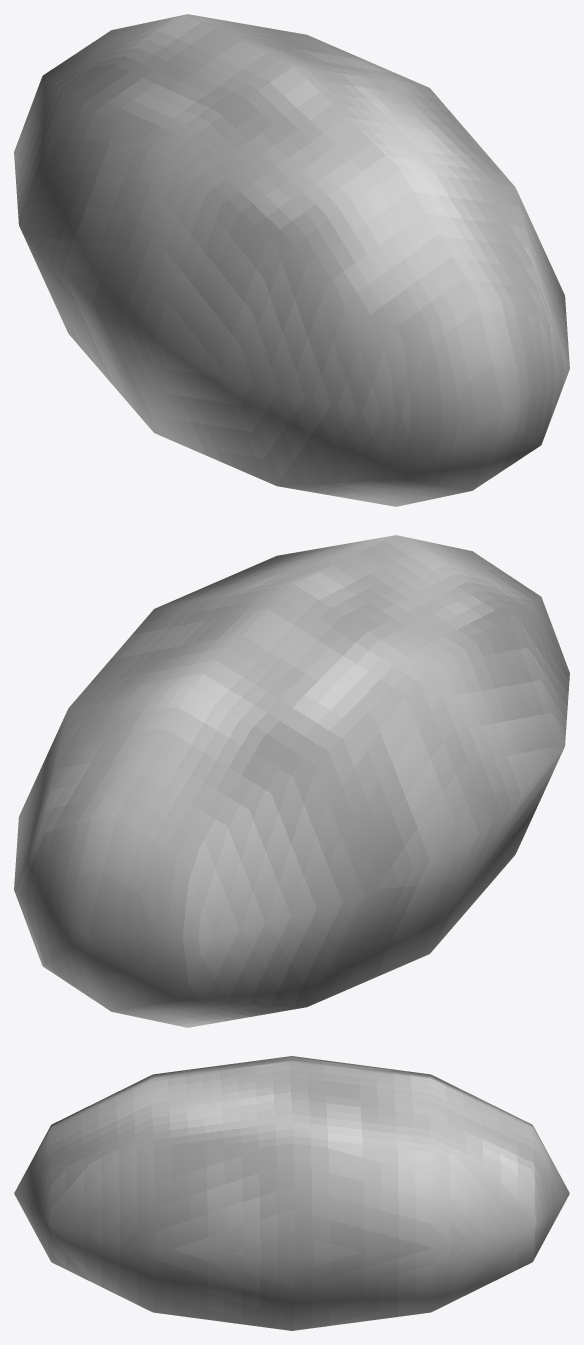
File: cacaofruit.obj
3 views of the same model, one above another, from view 1: azimuth 30°, elevation 25°; view 2: azimuth 150°, elevation 25°; view 3: azimuth 270°, elevation 25° (orthographic). The views are drawn at different scales.
Visible parts, largest first — view 1: Sphere01; view 2: Sphere01; view 3: Sphere01.
Part boxes in pixels (box(x1,y1,x2,y2)): Sphere01: box(14, 14, 569, 506); Sphere01: box(14, 535, 569, 1027); Sphere01: box(14, 1056, 569, 1330).
Bounding box in the file's own units: 19.46 × 18.73 × 36.03.
